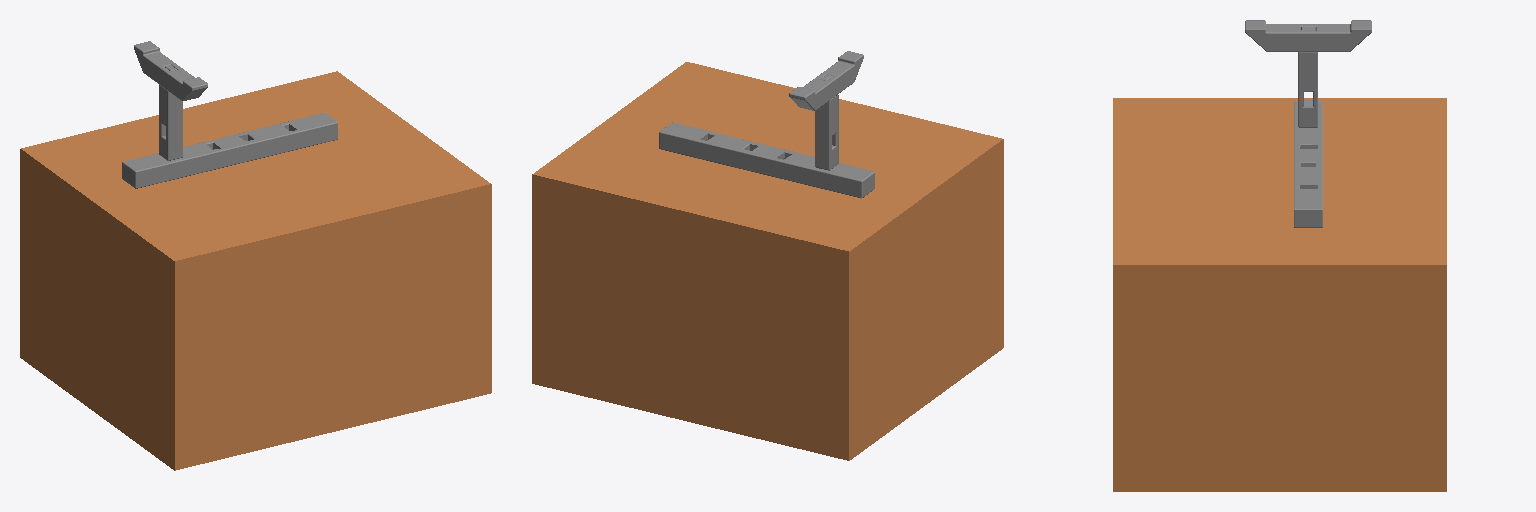
The robot description file, URDF, robot "table_beam_2x_3_scene_0054":
<?xml version="1.0"?>
<robot name="table_beam_2x_3_scene_0054">
  <link name="box">
    <visual>
      <material name="wood"><color rgba="0.82 0.56 0.35 1.0"/></material>
      <origin xyz="0 0 0"/>
      <geometry><box size="0.475 0.4 0.3"/></geometry>
    </visual>
    <collision>
      <origin xyz="0 0 0"/>
      <geometry><box size="0.475 0.4 0.3"/></geometry>
    </collision>
    <inertial>
      <mass value="500"/>
      <friction value="1.0"/>
      <inertia ixx="1000.0" ixy="0.0" ixz="0.0" iyy="1000.0" iyz="0.0" izz="1000.0"/>
    </inertial>
  </link>
  <link name="part_6_hull_0">
    <visual>
      <origin xyz="0 0 0" rpy="0 0 0"/>
      <geometry><mesh filename="../../6/coacd/decomp_0.obj" scale="1 1 1"/></geometry>
      <material name="placed_0"><color rgba="0.6 0.6 0.6 1.0"/></material>
    </visual>
    <collision>
      <origin xyz="0 0 0" rpy="0 0 0"/>
      <geometry><mesh filename="../../6/coacd/decomp_0.obj" scale="1 1 1"/></geometry>
    </collision>
  </link>
  <joint name="part_6_hull_0_joint" type="fixed">
    <parent link="box"/>
    <child link="part_6_hull_0"/>
    <origin xyz="-0.018689 0.034137 0.162666" rpy="0.000000 0.000000 0.000000"/>
  </joint>
  <link name="part_6_hull_1">
    <visual>
      <origin xyz="0 0 0" rpy="0 0 0"/>
      <geometry><mesh filename="../../6/coacd/decomp_1.obj" scale="1 1 1"/></geometry>
      <material name="placed_1"><color rgba="0.6 0.6 0.6 1.0"/></material>
    </visual>
    <collision>
      <origin xyz="0 0 0" rpy="0 0 0"/>
      <geometry><mesh filename="../../6/coacd/decomp_1.obj" scale="1 1 1"/></geometry>
    </collision>
  </link>
  <joint name="part_6_hull_1_joint" type="fixed">
    <parent link="box"/>
    <child link="part_6_hull_1"/>
    <origin xyz="-0.018689 0.034137 0.162666" rpy="0.000000 0.000000 0.000000"/>
  </joint>
  <link name="part_6_hull_2">
    <visual>
      <origin xyz="0 0 0" rpy="0 0 0"/>
      <geometry><mesh filename="../../6/coacd/decomp_10.obj" scale="1 1 1"/></geometry>
      <material name="placed_2"><color rgba="0.6 0.6 0.6 1.0"/></material>
    </visual>
    <collision>
      <origin xyz="0 0 0" rpy="0 0 0"/>
      <geometry><mesh filename="../../6/coacd/decomp_10.obj" scale="1 1 1"/></geometry>
    </collision>
  </link>
  <joint name="part_6_hull_2_joint" type="fixed">
    <parent link="box"/>
    <child link="part_6_hull_2"/>
    <origin xyz="-0.018689 0.034137 0.162666" rpy="0.000000 0.000000 0.000000"/>
  </joint>
  <link name="part_6_hull_3">
    <visual>
      <origin xyz="0 0 0" rpy="0 0 0"/>
      <geometry><mesh filename="../../6/coacd/decomp_11.obj" scale="1 1 1"/></geometry>
      <material name="placed_3"><color rgba="0.6 0.6 0.6 1.0"/></material>
    </visual>
    <collision>
      <origin xyz="0 0 0" rpy="0 0 0"/>
      <geometry><mesh filename="../../6/coacd/decomp_11.obj" scale="1 1 1"/></geometry>
    </collision>
  </link>
  <joint name="part_6_hull_3_joint" type="fixed">
    <parent link="box"/>
    <child link="part_6_hull_3"/>
    <origin xyz="-0.018689 0.034137 0.162666" rpy="0.000000 0.000000 0.000000"/>
  </joint>
  <link name="part_6_hull_4">
    <visual>
      <origin xyz="0 0 0" rpy="0 0 0"/>
      <geometry><mesh filename="../../6/coacd/decomp_12.obj" scale="1 1 1"/></geometry>
      <material name="placed_4"><color rgba="0.6 0.6 0.6 1.0"/></material>
    </visual>
    <collision>
      <origin xyz="0 0 0" rpy="0 0 0"/>
      <geometry><mesh filename="../../6/coacd/decomp_12.obj" scale="1 1 1"/></geometry>
    </collision>
  </link>
  <joint name="part_6_hull_4_joint" type="fixed">
    <parent link="box"/>
    <child link="part_6_hull_4"/>
    <origin xyz="-0.018689 0.034137 0.162666" rpy="0.000000 0.000000 0.000000"/>
  </joint>
  <link name="part_6_hull_5">
    <visual>
      <origin xyz="0 0 0" rpy="0 0 0"/>
      <geometry><mesh filename="../../6/coacd/decomp_13.obj" scale="1 1 1"/></geometry>
      <material name="placed_5"><color rgba="0.6 0.6 0.6 1.0"/></material>
    </visual>
    <collision>
      <origin xyz="0 0 0" rpy="0 0 0"/>
      <geometry><mesh filename="../../6/coacd/decomp_13.obj" scale="1 1 1"/></geometry>
    </collision>
  </link>
  <joint name="part_6_hull_5_joint" type="fixed">
    <parent link="box"/>
    <child link="part_6_hull_5"/>
    <origin xyz="-0.018689 0.034137 0.162666" rpy="0.000000 0.000000 0.000000"/>
  </joint>
  <link name="part_6_hull_6">
    <visual>
      <origin xyz="0 0 0" rpy="0 0 0"/>
      <geometry><mesh filename="../../6/coacd/decomp_2.obj" scale="1 1 1"/></geometry>
      <material name="placed_6"><color rgba="0.6 0.6 0.6 1.0"/></material>
    </visual>
    <collision>
      <origin xyz="0 0 0" rpy="0 0 0"/>
      <geometry><mesh filename="../../6/coacd/decomp_2.obj" scale="1 1 1"/></geometry>
    </collision>
  </link>
  <joint name="part_6_hull_6_joint" type="fixed">
    <parent link="box"/>
    <child link="part_6_hull_6"/>
    <origin xyz="-0.018689 0.034137 0.162666" rpy="0.000000 0.000000 0.000000"/>
  </joint>
  <link name="part_6_hull_7">
    <visual>
      <origin xyz="0 0 0" rpy="0 0 0"/>
      <geometry><mesh filename="../../6/coacd/decomp_3.obj" scale="1 1 1"/></geometry>
      <material name="placed_7"><color rgba="0.6 0.6 0.6 1.0"/></material>
    </visual>
    <collision>
      <origin xyz="0 0 0" rpy="0 0 0"/>
      <geometry><mesh filename="../../6/coacd/decomp_3.obj" scale="1 1 1"/></geometry>
    </collision>
  </link>
  <joint name="part_6_hull_7_joint" type="fixed">
    <parent link="box"/>
    <child link="part_6_hull_7"/>
    <origin xyz="-0.018689 0.034137 0.162666" rpy="0.000000 0.000000 0.000000"/>
  </joint>
  <link name="part_6_hull_8">
    <visual>
      <origin xyz="0 0 0" rpy="0 0 0"/>
      <geometry><mesh filename="../../6/coacd/decomp_4.obj" scale="1 1 1"/></geometry>
      <material name="placed_8"><color rgba="0.6 0.6 0.6 1.0"/></material>
    </visual>
    <collision>
      <origin xyz="0 0 0" rpy="0 0 0"/>
      <geometry><mesh filename="../../6/coacd/decomp_4.obj" scale="1 1 1"/></geometry>
    </collision>
  </link>
  <joint name="part_6_hull_8_joint" type="fixed">
    <parent link="box"/>
    <child link="part_6_hull_8"/>
    <origin xyz="-0.018689 0.034137 0.162666" rpy="0.000000 0.000000 0.000000"/>
  </joint>
  <link name="part_6_hull_9">
    <visual>
      <origin xyz="0 0 0" rpy="0 0 0"/>
      <geometry><mesh filename="../../6/coacd/decomp_5.obj" scale="1 1 1"/></geometry>
      <material name="placed_9"><color rgba="0.6 0.6 0.6 1.0"/></material>
    </visual>
    <collision>
      <origin xyz="0 0 0" rpy="0 0 0"/>
      <geometry><mesh filename="../../6/coacd/decomp_5.obj" scale="1 1 1"/></geometry>
    </collision>
  </link>
  <joint name="part_6_hull_9_joint" type="fixed">
    <parent link="box"/>
    <child link="part_6_hull_9"/>
    <origin xyz="-0.018689 0.034137 0.162666" rpy="0.000000 0.000000 0.000000"/>
  </joint>
  <link name="part_6_hull_10">
    <visual>
      <origin xyz="0 0 0" rpy="0 0 0"/>
      <geometry><mesh filename="../../6/coacd/decomp_6.obj" scale="1 1 1"/></geometry>
      <material name="placed_10"><color rgba="0.6 0.6 0.6 1.0"/></material>
    </visual>
    <collision>
      <origin xyz="0 0 0" rpy="0 0 0"/>
      <geometry><mesh filename="../../6/coacd/decomp_6.obj" scale="1 1 1"/></geometry>
    </collision>
  </link>
  <joint name="part_6_hull_10_joint" type="fixed">
    <parent link="box"/>
    <child link="part_6_hull_10"/>
    <origin xyz="-0.018689 0.034137 0.162666" rpy="0.000000 0.000000 0.000000"/>
  </joint>
  <link name="part_6_hull_11">
    <visual>
      <origin xyz="0 0 0" rpy="0 0 0"/>
      <geometry><mesh filename="../../6/coacd/decomp_7.obj" scale="1 1 1"/></geometry>
      <material name="placed_11"><color rgba="0.6 0.6 0.6 1.0"/></material>
    </visual>
    <collision>
      <origin xyz="0 0 0" rpy="0 0 0"/>
      <geometry><mesh filename="../../6/coacd/decomp_7.obj" scale="1 1 1"/></geometry>
    </collision>
  </link>
  <joint name="part_6_hull_11_joint" type="fixed">
    <parent link="box"/>
    <child link="part_6_hull_11"/>
    <origin xyz="-0.018689 0.034137 0.162666" rpy="0.000000 0.000000 0.000000"/>
  </joint>
  <link name="part_6_hull_12">
    <visual>
      <origin xyz="0 0 0" rpy="0 0 0"/>
      <geometry><mesh filename="../../6/coacd/decomp_8.obj" scale="1 1 1"/></geometry>
      <material name="placed_12"><color rgba="0.6 0.6 0.6 1.0"/></material>
    </visual>
    <collision>
      <origin xyz="0 0 0" rpy="0 0 0"/>
      <geometry><mesh filename="../../6/coacd/decomp_8.obj" scale="1 1 1"/></geometry>
    </collision>
  </link>
  <joint name="part_6_hull_12_joint" type="fixed">
    <parent link="box"/>
    <child link="part_6_hull_12"/>
    <origin xyz="-0.018689 0.034137 0.162666" rpy="0.000000 0.000000 0.000000"/>
  </joint>
  <link name="part_6_hull_13">
    <visual>
      <origin xyz="0 0 0" rpy="0 0 0"/>
      <geometry><mesh filename="../../6/coacd/decomp_9.obj" scale="1 1 1"/></geometry>
      <material name="placed_13"><color rgba="0.6 0.6 0.6 1.0"/></material>
    </visual>
    <collision>
      <origin xyz="0 0 0" rpy="0 0 0"/>
      <geometry><mesh filename="../../6/coacd/decomp_9.obj" scale="1 1 1"/></geometry>
    </collision>
  </link>
  <joint name="part_6_hull_13_joint" type="fixed">
    <parent link="box"/>
    <child link="part_6_hull_13"/>
    <origin xyz="-0.018689 0.034137 0.162666" rpy="0.000000 0.000000 0.000000"/>
  </joint>
  <link name="part_2_canonical">
    <visual>
      <origin xyz="0 0 0" rpy="0 0 0"/>
      <geometry><mesh filename="../../2/2_canonical.obj" scale="1 1 1"/></geometry>
      <material name="placed_14"><color rgba="0.6 0.6 0.6 1.0"/></material>
    </visual>
    <collision>
      <origin xyz="0 0 0" rpy="0 0 0"/>
      <geometry><mesh filename="../../2/2_canonical.obj" scale="1 1 1"/></geometry>
    </collision>
  </link>
  <joint name="part_2_canonical_joint" type="fixed">
    <parent link="box"/>
    <child link="part_2_canonical"/>
    <origin xyz="-0.107616 0.034137 0.225384" rpy="0.000000 -1.570796 0.000000"/>
  </joint>
  <link name="part_0_canonical">
    <visual>
      <origin xyz="0 0 0" rpy="0 0 0"/>
      <geometry><mesh filename="../../0/0_canonical.obj" scale="1 1 1"/></geometry>
      <material name="placed_15"><color rgba="0.6 0.6 0.6 1.0"/></material>
    </visual>
    <collision>
      <origin xyz="0 0 0" rpy="0 0 0"/>
      <geometry><mesh filename="../../0/0_canonical.obj" scale="1 1 1"/></geometry>
    </collision>
  </link>
  <joint name="part_0_canonical_joint" type="fixed">
    <parent link="box"/>
    <child link="part_0_canonical"/>
    <origin xyz="-0.107589 0.034137 0.292243" rpy="1.570796 0.000000 -1.570796"/>
  </joint>
</robot>

--- Render facts (derived) ---
3 views of the same robot in one strip: view 1: azimuth 30°, elevation 25°; view 2: azimuth 150°, elevation 25°; view 3: azimuth 270°, elevation 25° (orthographic).
Model table_beam_2x_3_scene_0054 with 17 links and 16 joints (16 fixed), rooted at box, posed all joints at 0.
Links seen in each view (by area): view 1: box, part_0_canonical, part_2_canonical, part_6_hull_1, part_6_hull_0, part_6_hull_9, part_6_hull_5, part_6_hull_3; view 2: box, part_0_canonical, part_2_canonical, part_6_hull_1, part_6_hull_0, part_6_hull_2, part_6_hull_12, part_6_hull_5; view 3: box, part_0_canonical, part_2_canonical, part_6_hull_0.
Link boxes in pixels (x1,y1,x2,y2): box: [20, 71, 491, 470]; part_0_canonical: [134, 41, 207, 100]; part_2_canonical: [159, 65, 182, 160]; part_6_hull_1: [122, 153, 173, 188]; part_6_hull_0: [288, 113, 337, 148]; part_6_hull_9: [172, 149, 223, 179]; part_6_hull_5: [253, 124, 292, 156]; part_6_hull_3: [225, 138, 265, 165]; box: [532, 62, 1003, 460]; part_0_canonical: [789, 51, 863, 110]; part_2_canonical: [815, 75, 838, 170]; part_6_hull_1: [823, 163, 874, 198]; part_6_hull_0: [659, 122, 710, 158]; part_6_hull_2: [781, 154, 818, 186]; part_6_hull_12: [731, 147, 772, 175]; part_6_hull_5: [705, 133, 743, 166]; box: [1113, 98, 1446, 491]; part_0_canonical: [1245, 20, 1371, 51]; part_2_canonical: [1298, 27, 1317, 127]; part_6_hull_0: [1294, 189, 1322, 227].
Size in the robot's own frame: 0.475 by 0.4 by 0.4575 metres.
16 mesh visuals loaded from 16 distinct referenced files (16 OBJ).
